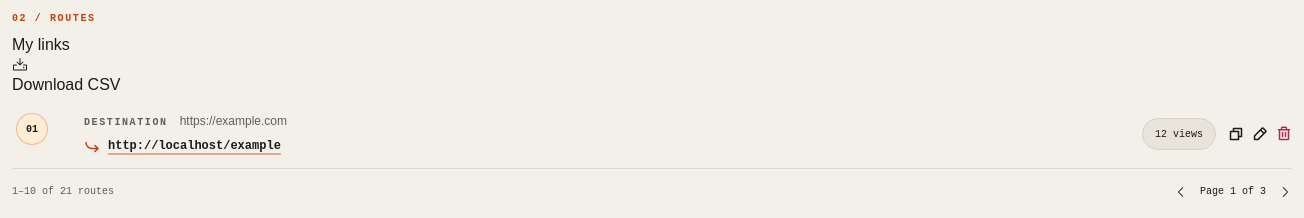
Test: MyLinks › moves to the next page from the pagination footer
Expected: the text "Page 1 of 3" is shown, 1200,186 -> 1266,197
Click the button named "next".
click(1285, 192)  # box 1278,185 -> 1292,199
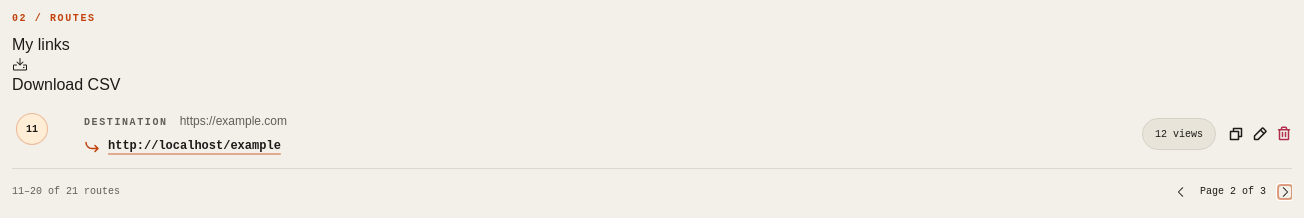
Result: the text "Page 2 of 3" is shown at 1200,186 -> 1266,197
Result: the text "11–20 of 21 routes" is shown at 12,185 -> 120,198
